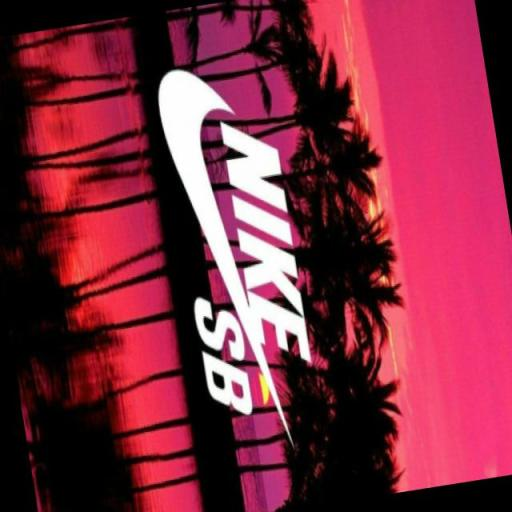Nike: (150, 64, 264, 386), (215, 116, 313, 380)
